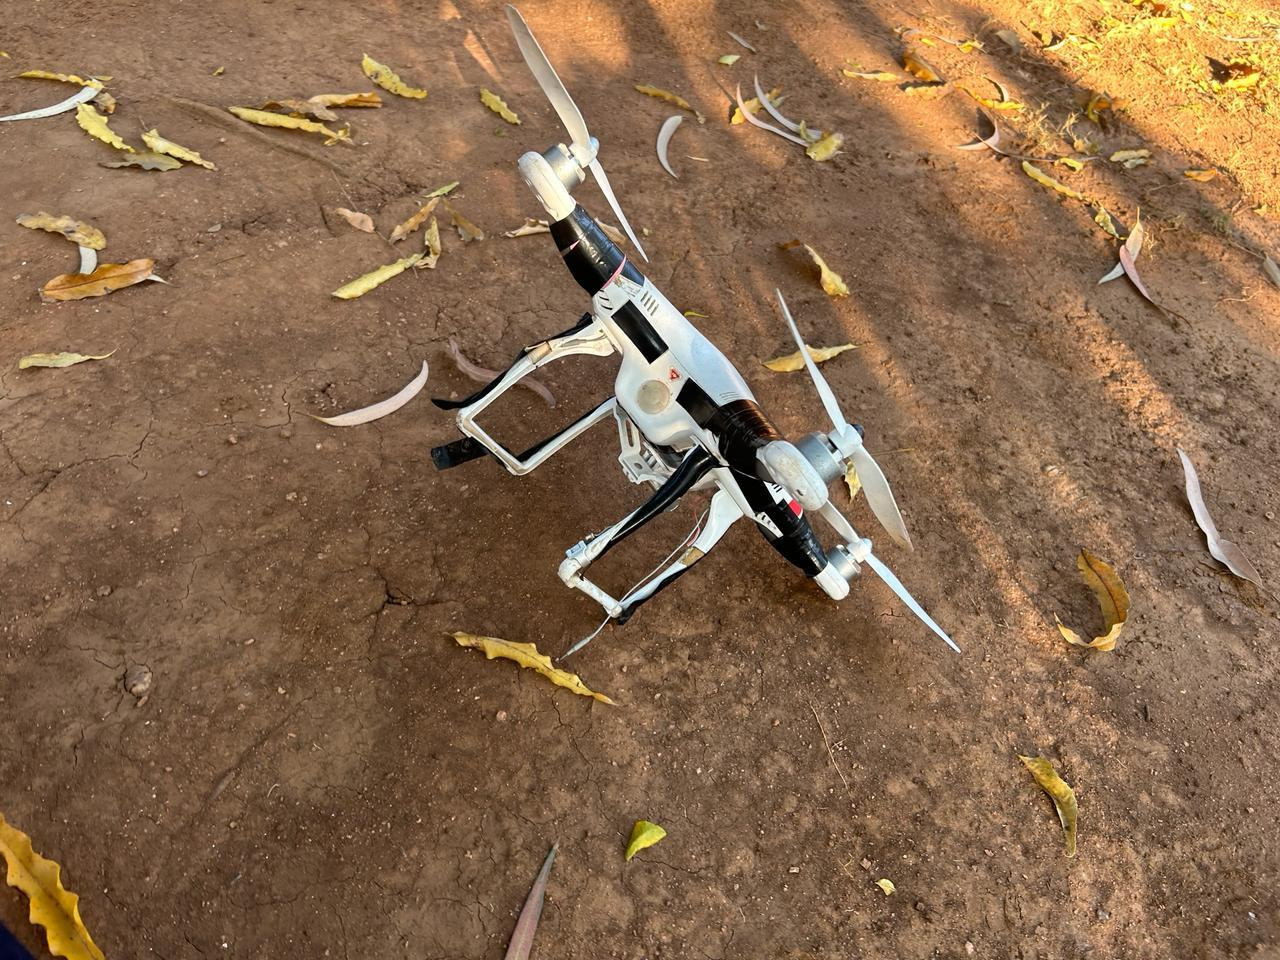drone: (300, 4, 1031, 817)
